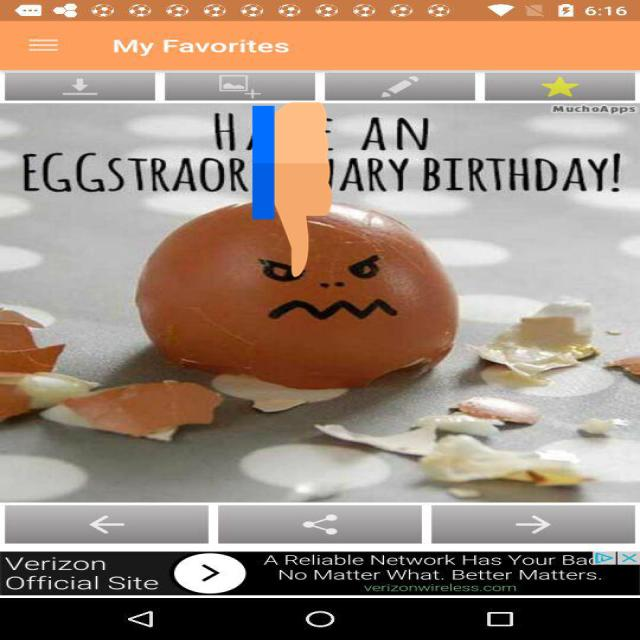obstruction: (252, 98, 332, 281)
